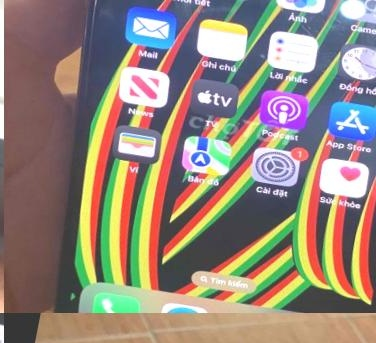physical_damage: (77, 0, 376, 89)
